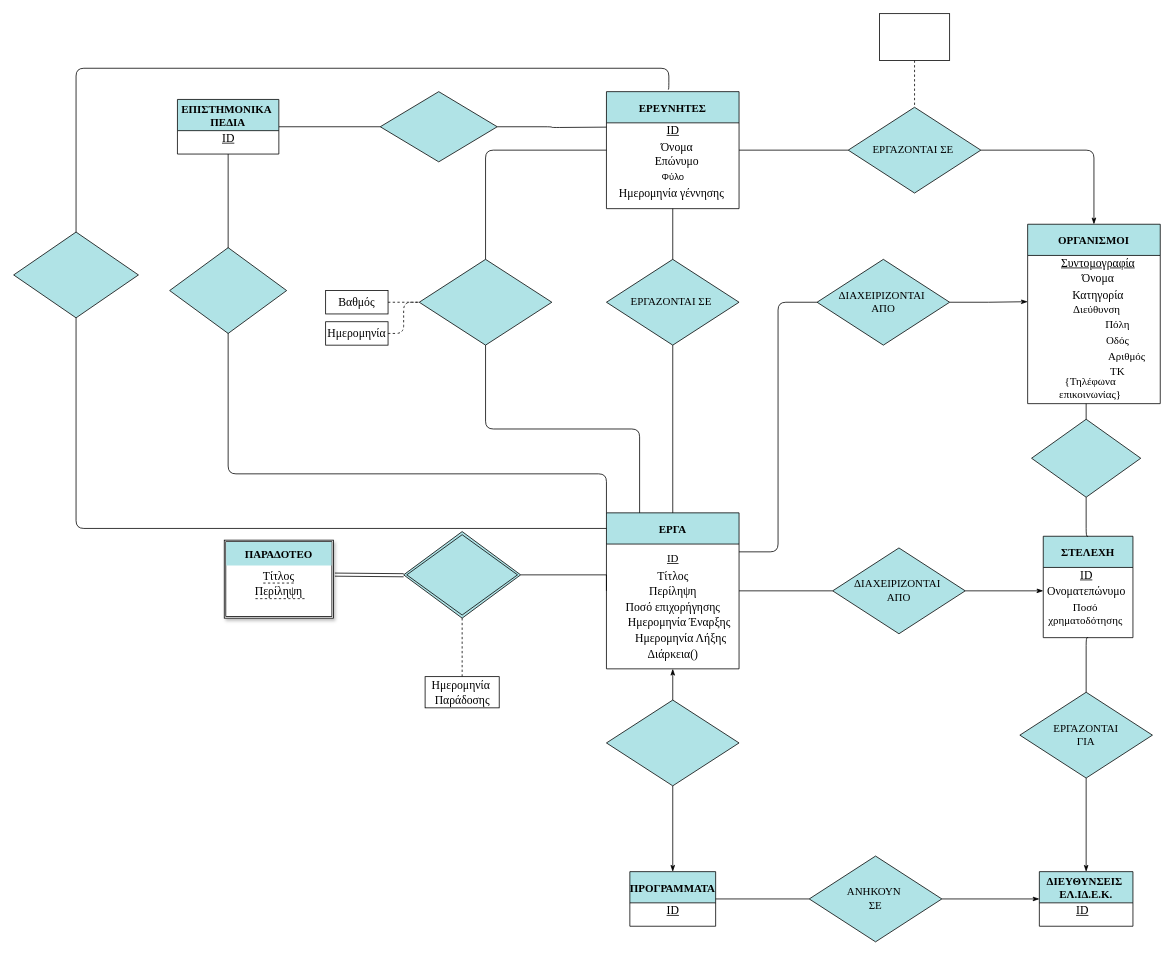
The diagram is 1174 pixels wide and 955 high, and some of its shapes have lost their labels. Here are the shapes that lost their labels. From the top down, the centre of each, then its label:
At point 914,36: "Ημερομηνία έναρξης εργασίας".
At point 438,126: "ΕΡΕΥΝΟΥΝΤΑΙ ΑΠΟ".
At point 75,274: "ΕΠΙΣΤΗΜΟΝΙΚΟΣ ΥΠΕΥΘΥΝΟΣ".
At point 228,290: "ΑΦΟΡΟΥΝ".
At point 485,302: "ΑΞΙΟΛΟΓΟΥΝ".
At point 1086,457: "ΧΡΗΜΑΤΟΔΟΤΟΥΝ".
At point 462,574: "ΠΡΟΣ ΠΑΡΑΔΟΣΗ".
At point 672,742: "ΕΠΙΧΟΡΗΓΟΥΝΤΑΙ ΑΠΟ".
